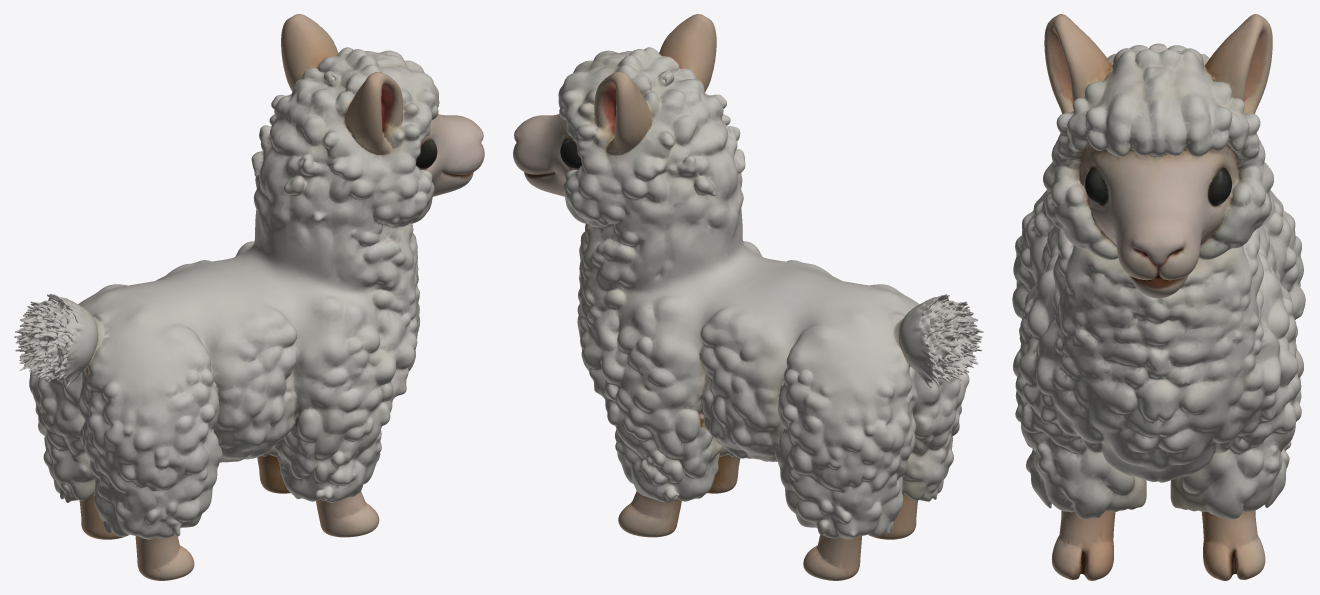
File: alpaca-mini10.glb
3 views of the same model, side by side, from view 1: azimuth 30°, elevation 25°; view 2: azimuth 150°, elevation 25°; view 3: azimuth 270°, elevation 25° (orthographic). The views are drawn at different scales.
Parts seen in each view (by area): view 1: tripo_node_d3317f73-6798-4ca8-a1c8-7ae865c0a021; view 2: tripo_node_d3317f73-6798-4ca8-a1c8-7ae865c0a021; view 3: tripo_node_d3317f73-6798-4ca8-a1c8-7ae865c0a021.
Part boxes in pixels (bbox=[...]): tripo_node_d3317f73-6798-4ca8-a1c8-7ae865c0a021: bbox=[14, 14, 484, 580]; tripo_node_d3317f73-6798-4ca8-a1c8-7ae865c0a021: bbox=[513, 14, 983, 580]; tripo_node_d3317f73-6798-4ca8-a1c8-7ae865c0a021: bbox=[1012, 14, 1305, 580].
Bounding box in the file's own units: 1 × 0.9661 × 0.4538.
Materials: 1 (1 with a texture image).
